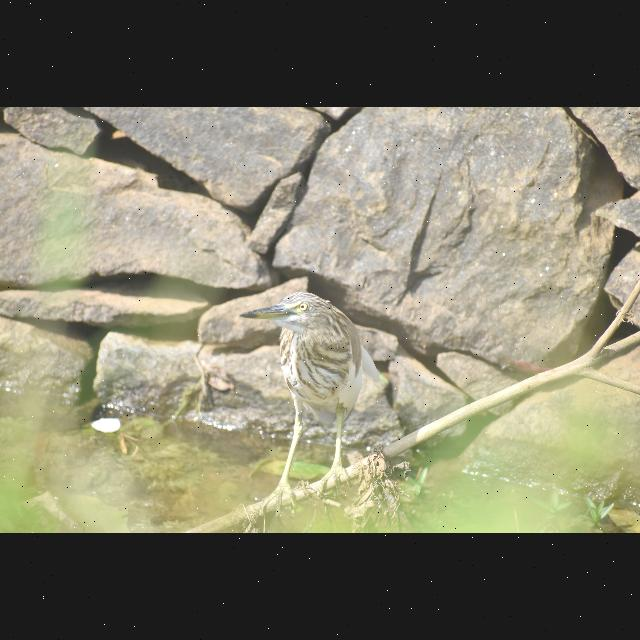heron: (234, 282, 380, 522)
